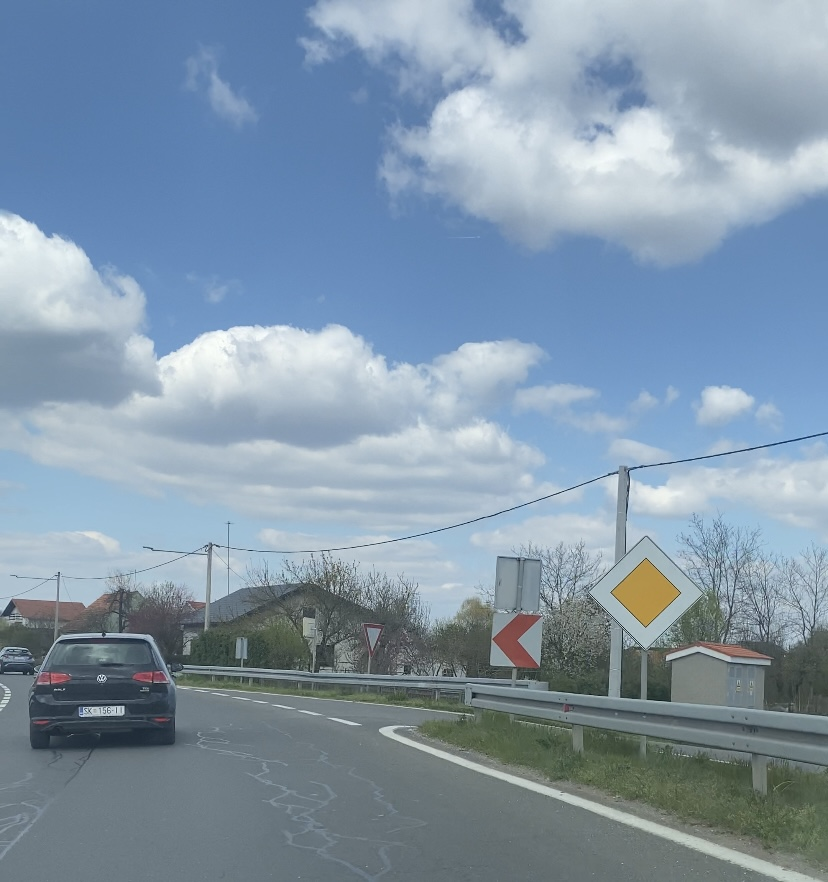Cesta s prednošću prolaska: (587, 535, 704, 651)
